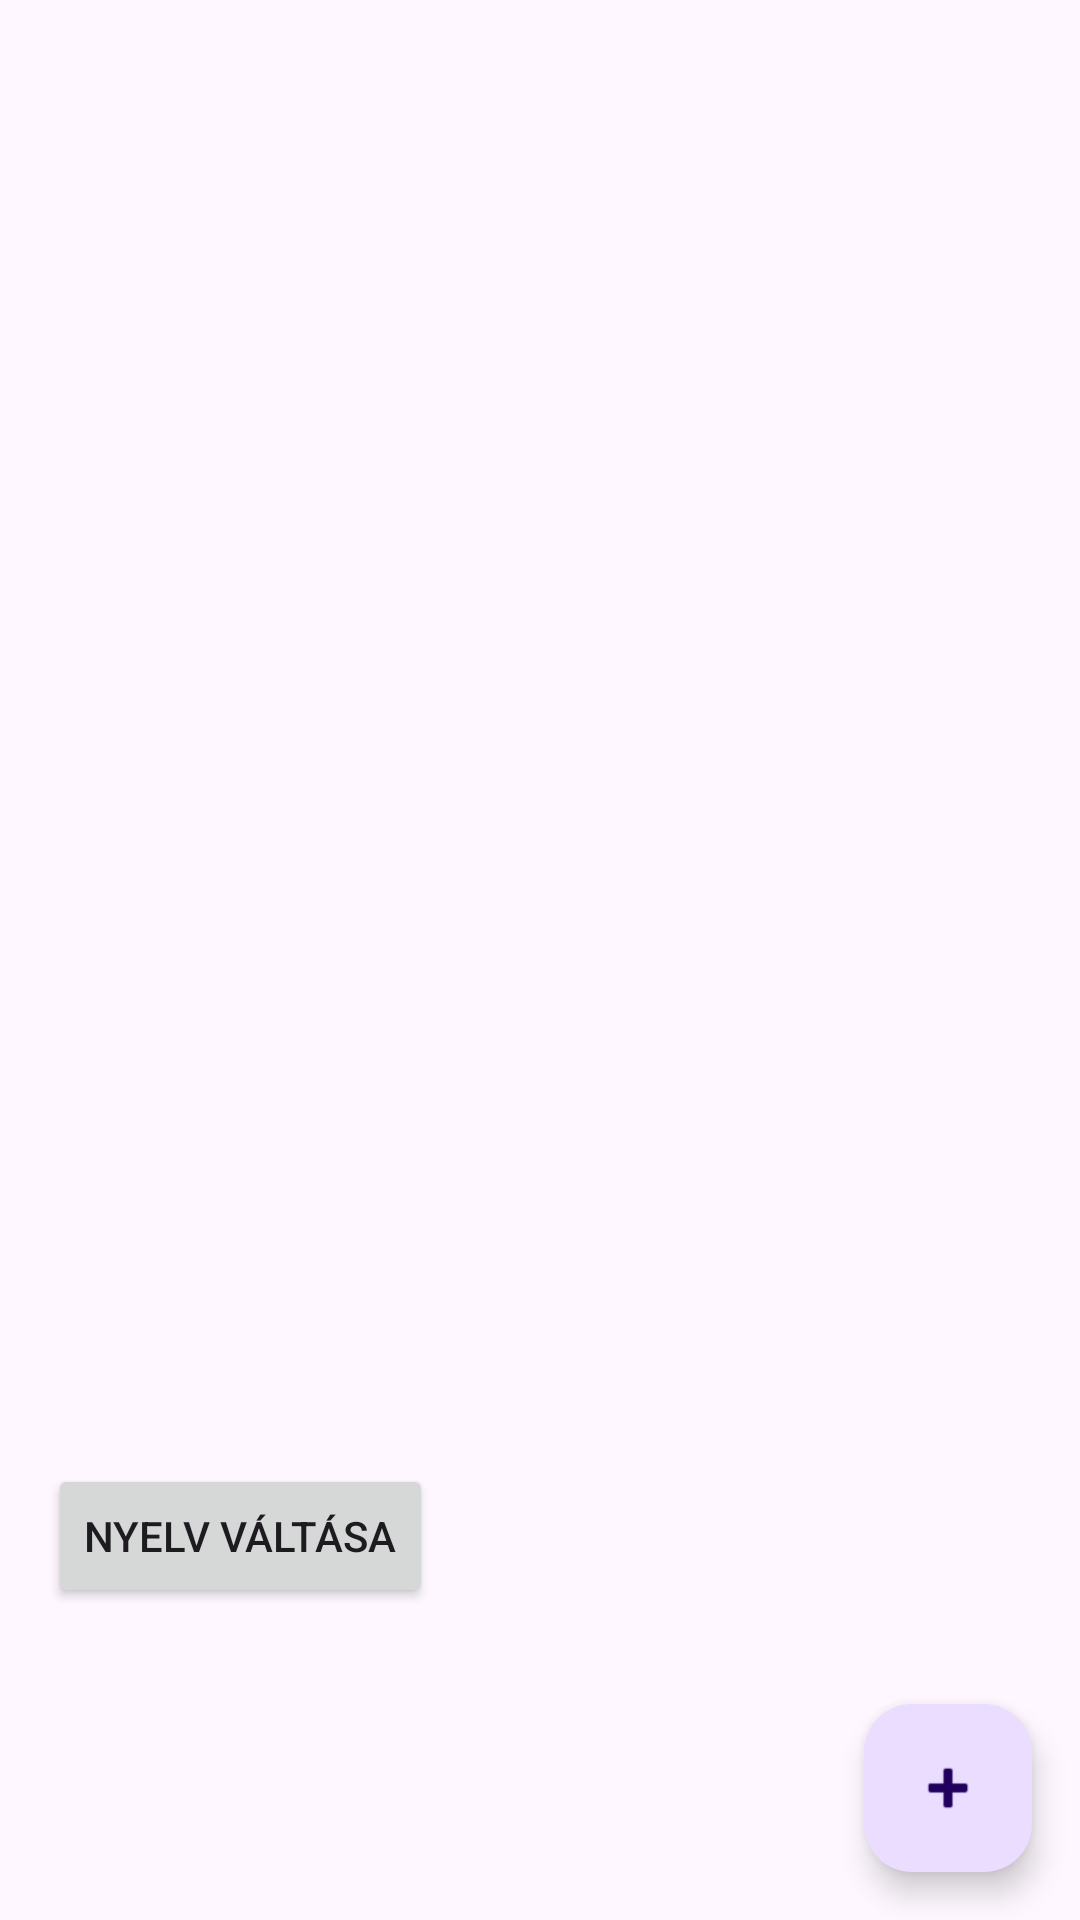

Where icons sit on this 1080 x 1920 app screen, as (x1, y1, x2, y2):
Hozzáadás: (864, 1704, 1032, 1872)
